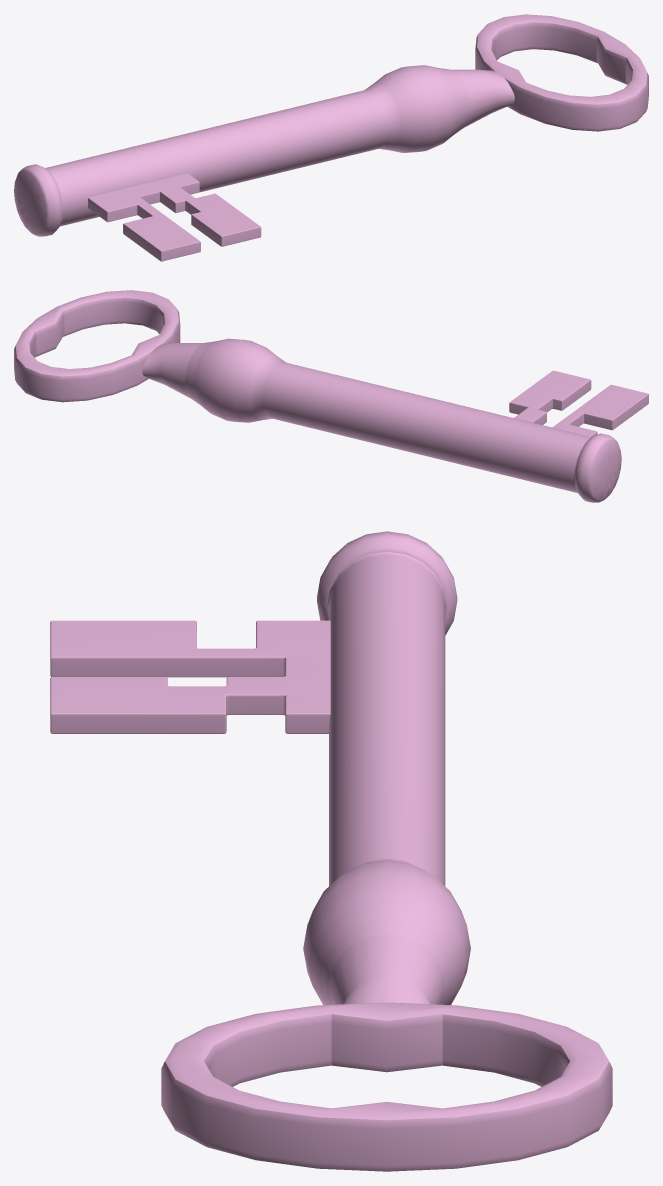
Rendered from Key.fbx.
The picture shows the model from 3 angles, top to bottom: view 1: azimuth 30°, elevation 25°; view 2: azimuth 150°, elevation 25°; view 3: azimuth 270°, elevation 25°; orthographic projection. The views are drawn at different scales.
Parts seen in each view (by area): view 1: key_shaft, key_handle, key_notches; view 2: key_shaft, key_handle, key_notches; view 3: key_shaft, key_handle, key_notches.
Boxes of the visible parts, bbox=[...] form: key_shaft: bbox=[14, 65, 514, 236]; key_handle: bbox=[475, 14, 648, 131]; key_notches: bbox=[88, 173, 261, 261]; key_shaft: bbox=[142, 338, 621, 502]; key_handle: bbox=[14, 290, 180, 402]; key_notches: bbox=[509, 370, 648, 436]; key_shaft: bbox=[303, 531, 470, 1004]; key_handle: bbox=[161, 1002, 612, 1171]; key_notches: bbox=[50, 620, 330, 733].
Bounding box in the file's own units: 0.2279 × 0.0288 × 0.0967.
